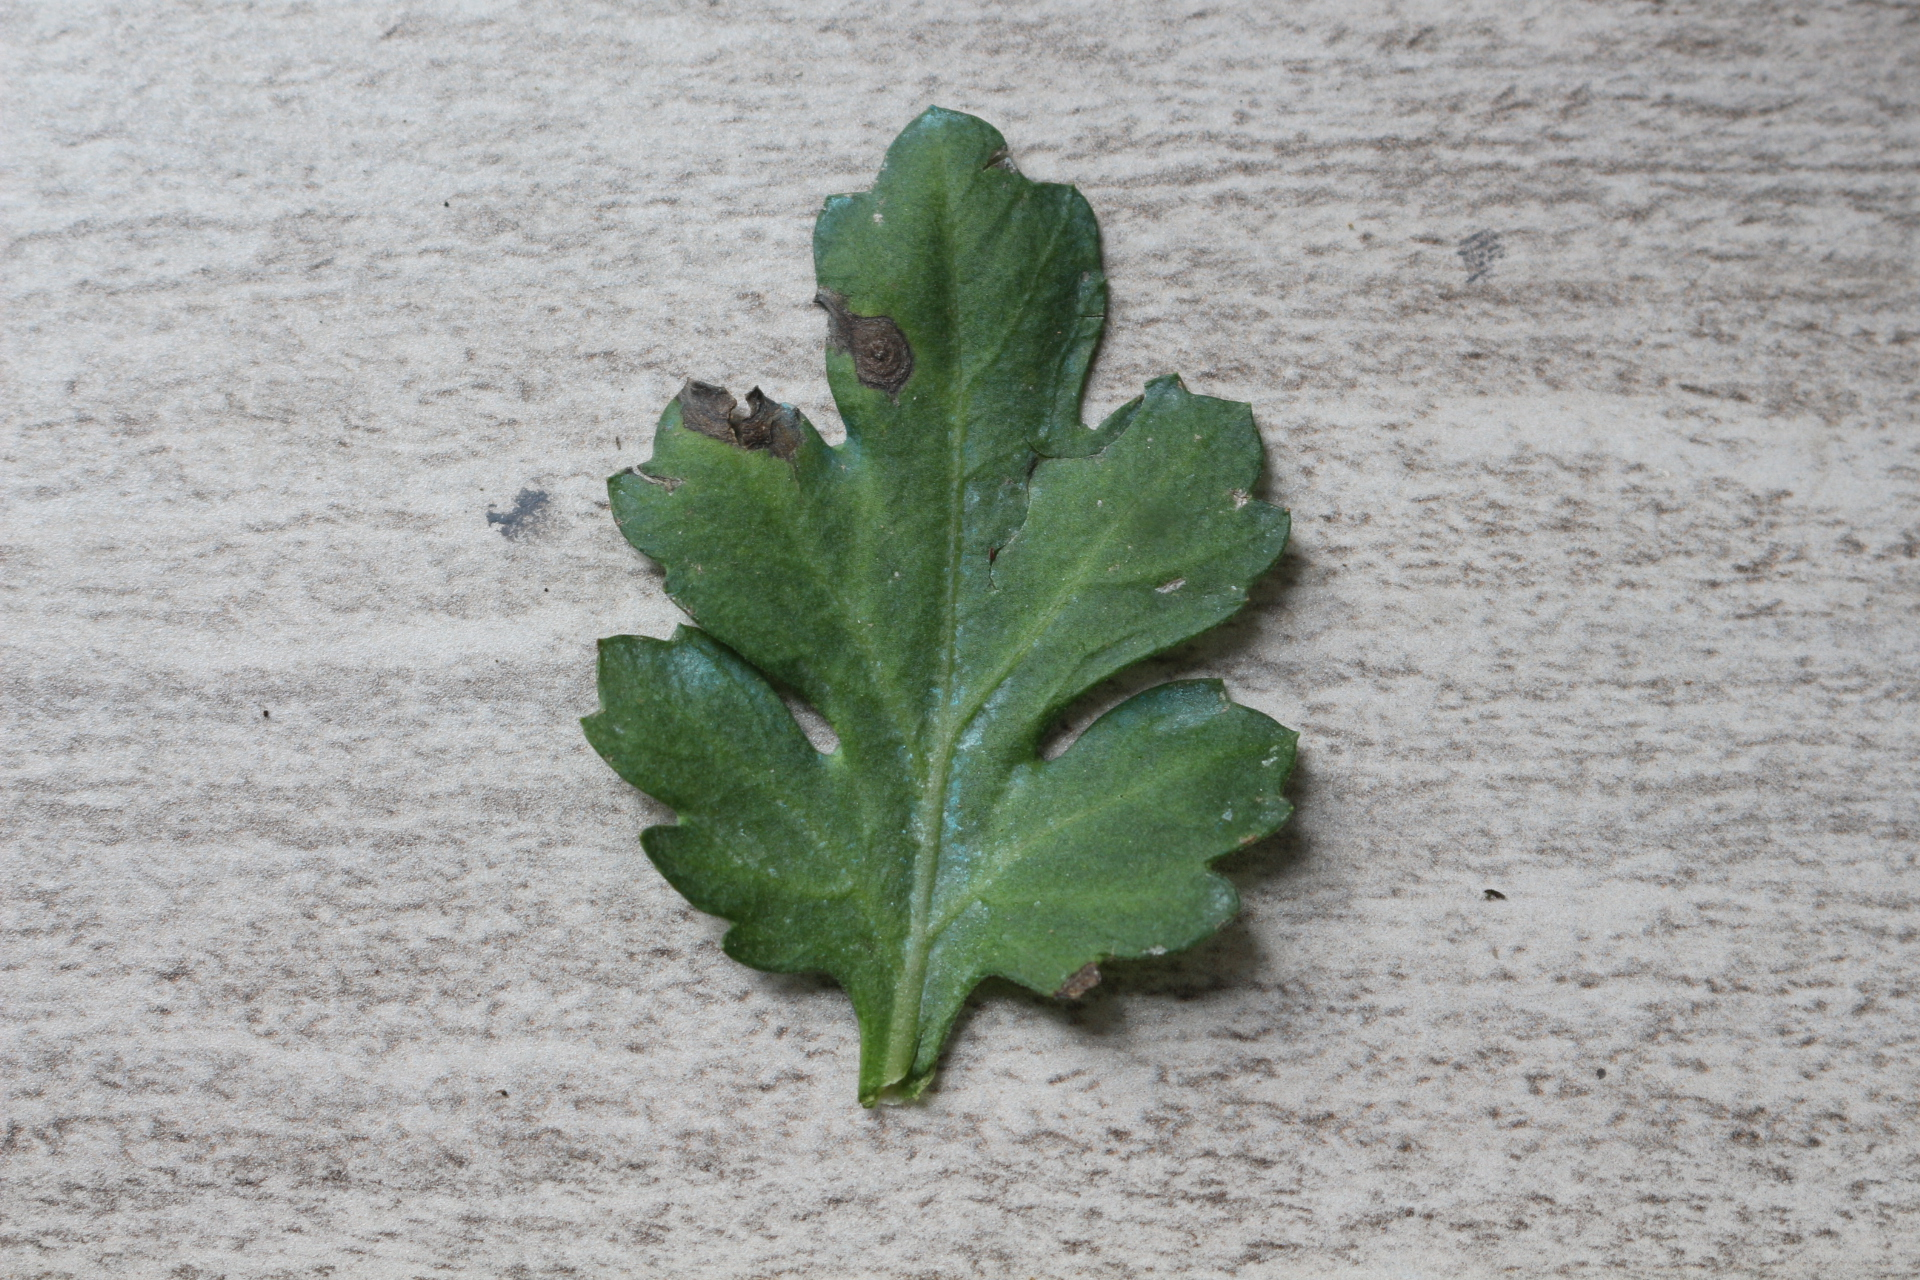namden: (826, 311, 929, 400)
